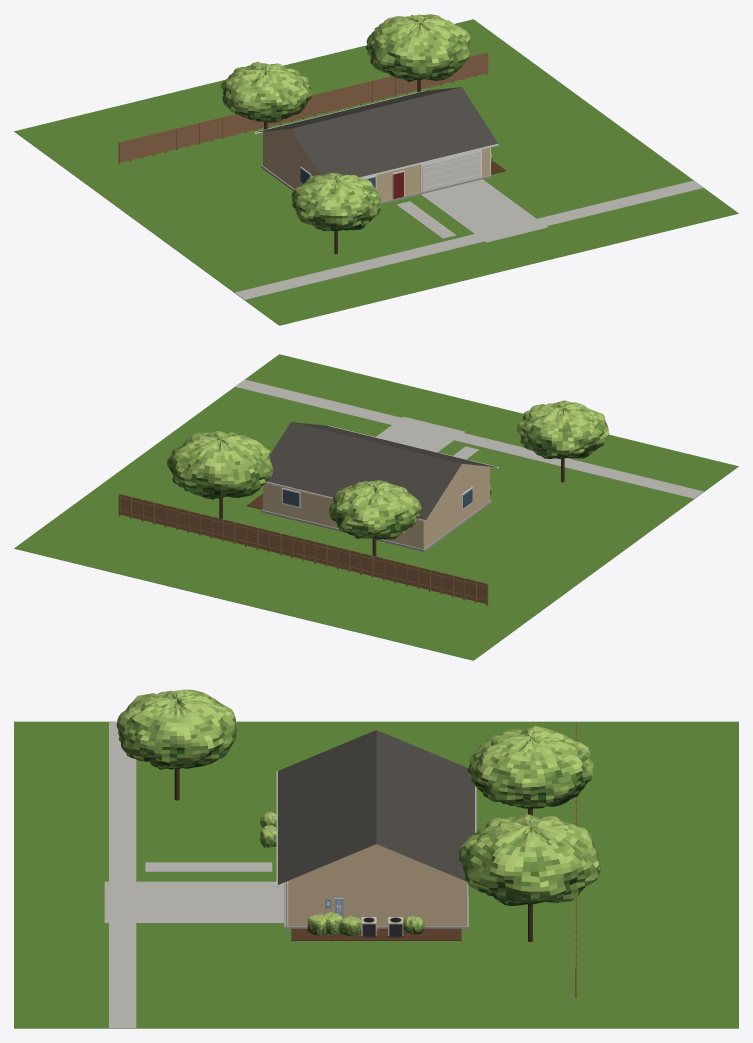
File: home_11_pre_install.obj
3 views of the same model, one above another, from view 1: azimuth 30°, elevation 25°; view 2: azimuth 150°, elevation 25°; view 3: azimuth 270°, elevation 25° (orthographic). The views are drawn at different scales.
Visible parts, largest first — view 1: yard, house, tree_2, tree_3, tree_1; view 2: yard, house, tree_2, tree_3, tree_1; view 3: yard, house, tree_2, tree_3, tree_1, mulch_bed_side.
Boxes of the visible parts, x1,y1,x2,y2 form: yard: (14,19,738,325); house: (254,87,498,203); tree_2: (366,14,470,92); tree_3: (220,61,311,129); tree_1: (291,172,381,254); yard: (14,354,738,660); house: (261,422,498,551); tree_2: (167,431,273,518); tree_3: (328,480,421,556); tree_1: (516,400,609,482); yard: (14,721,738,1028); house: (276,730,476,929); tree_2: (459,813,600,941); tree_3: (467,726,593,815); tree_1: (116,689,237,800); mulch_bed_side: (291,928,461,940).
Bounding box in the file's own units: 40 × 7.12 × 40.
